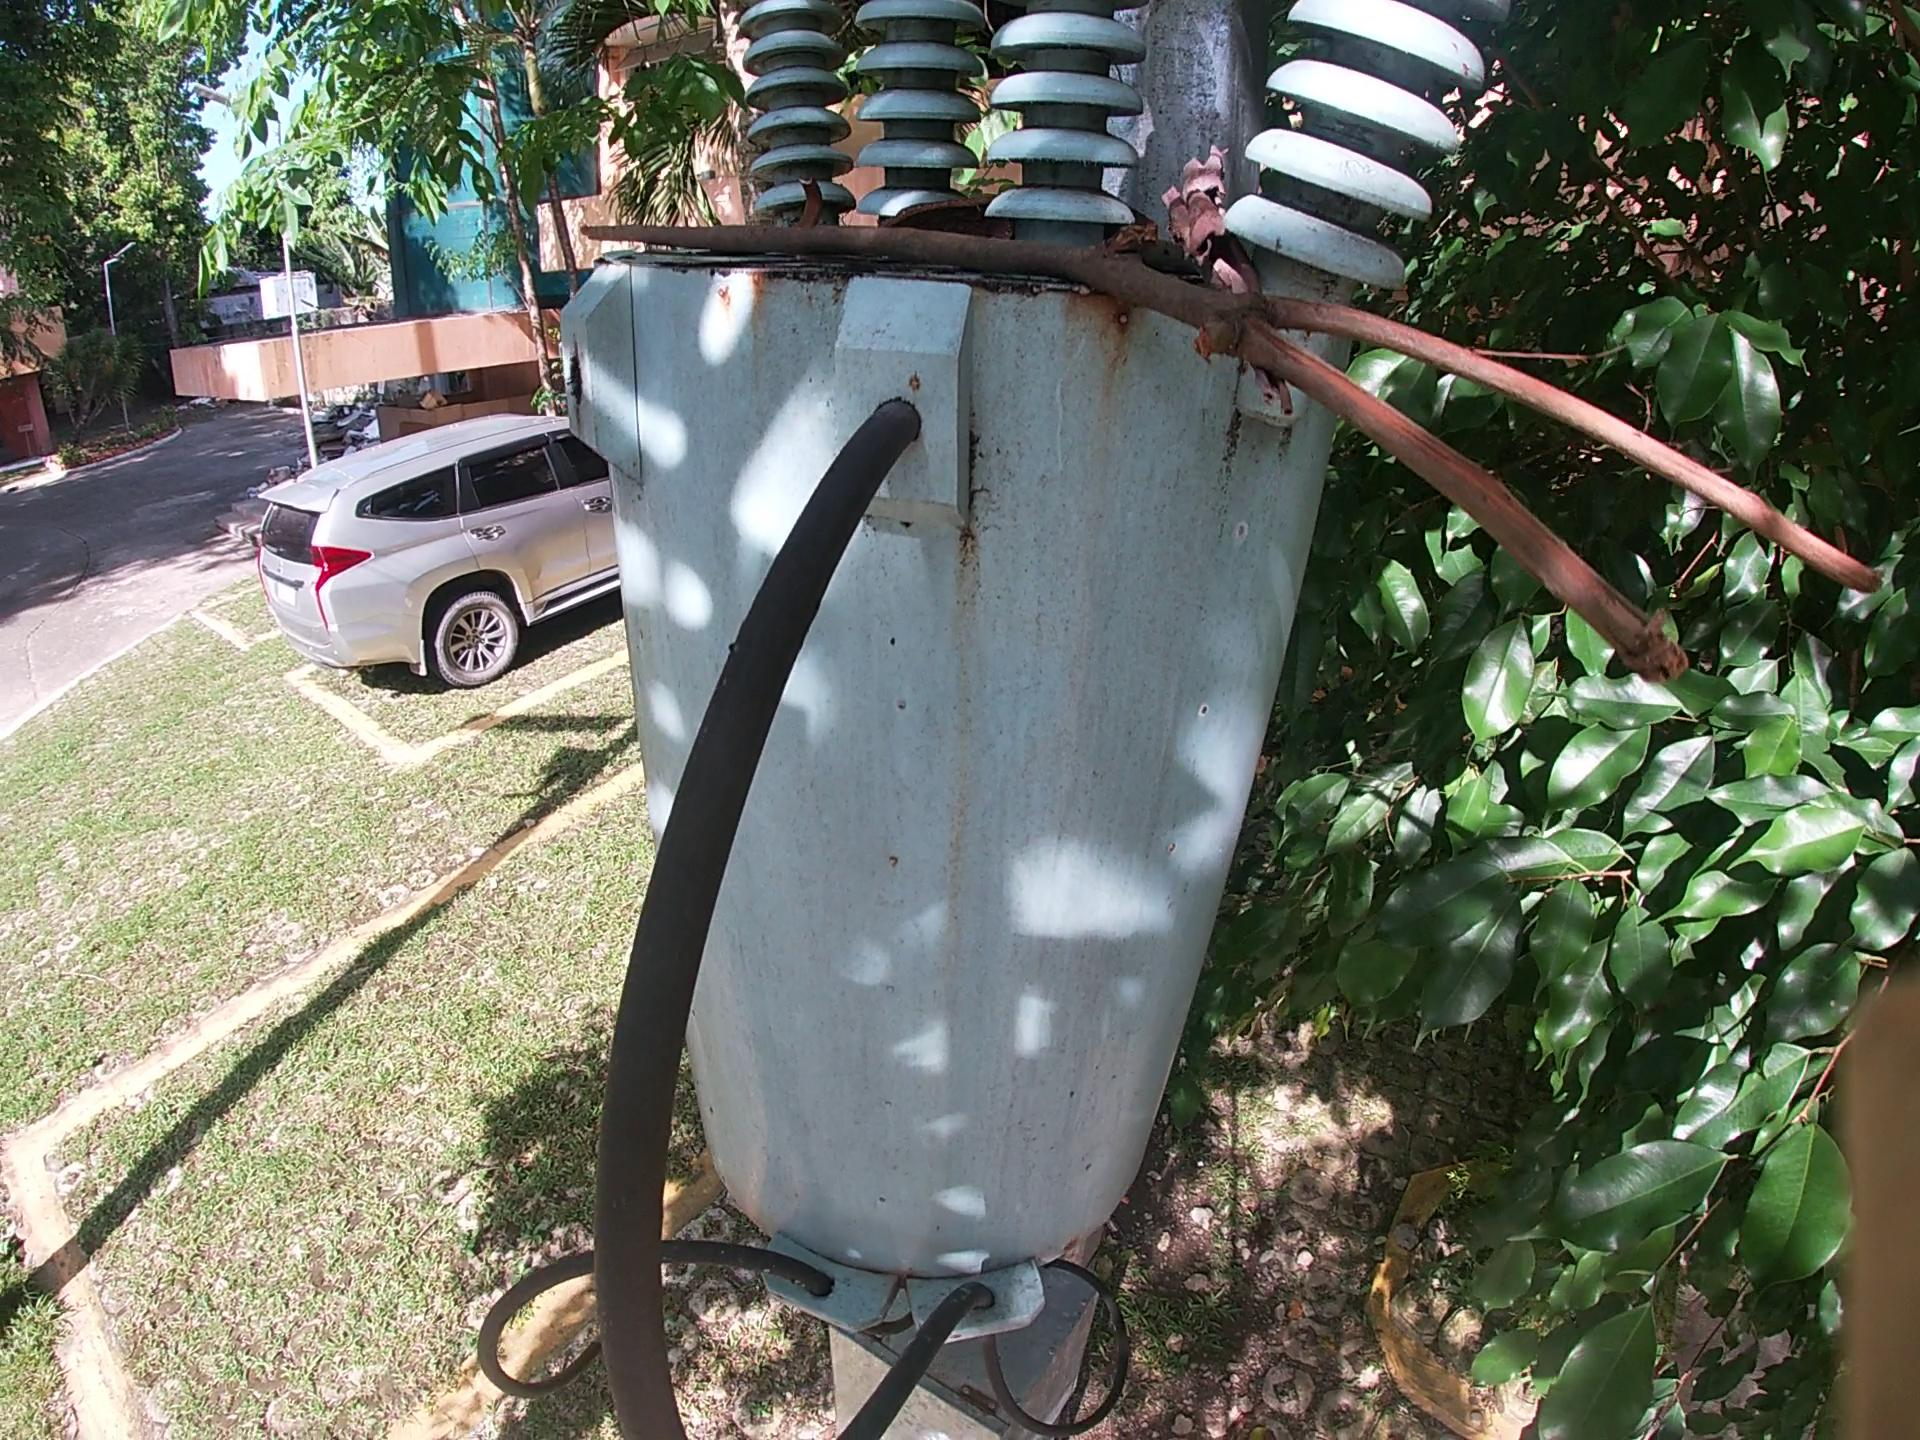mahogany fruit: (871, 206, 1002, 231), (785, 166, 841, 222), (1110, 198, 1160, 241)
tree branch: (584, 209, 1896, 700), (1181, 144, 1293, 414)
